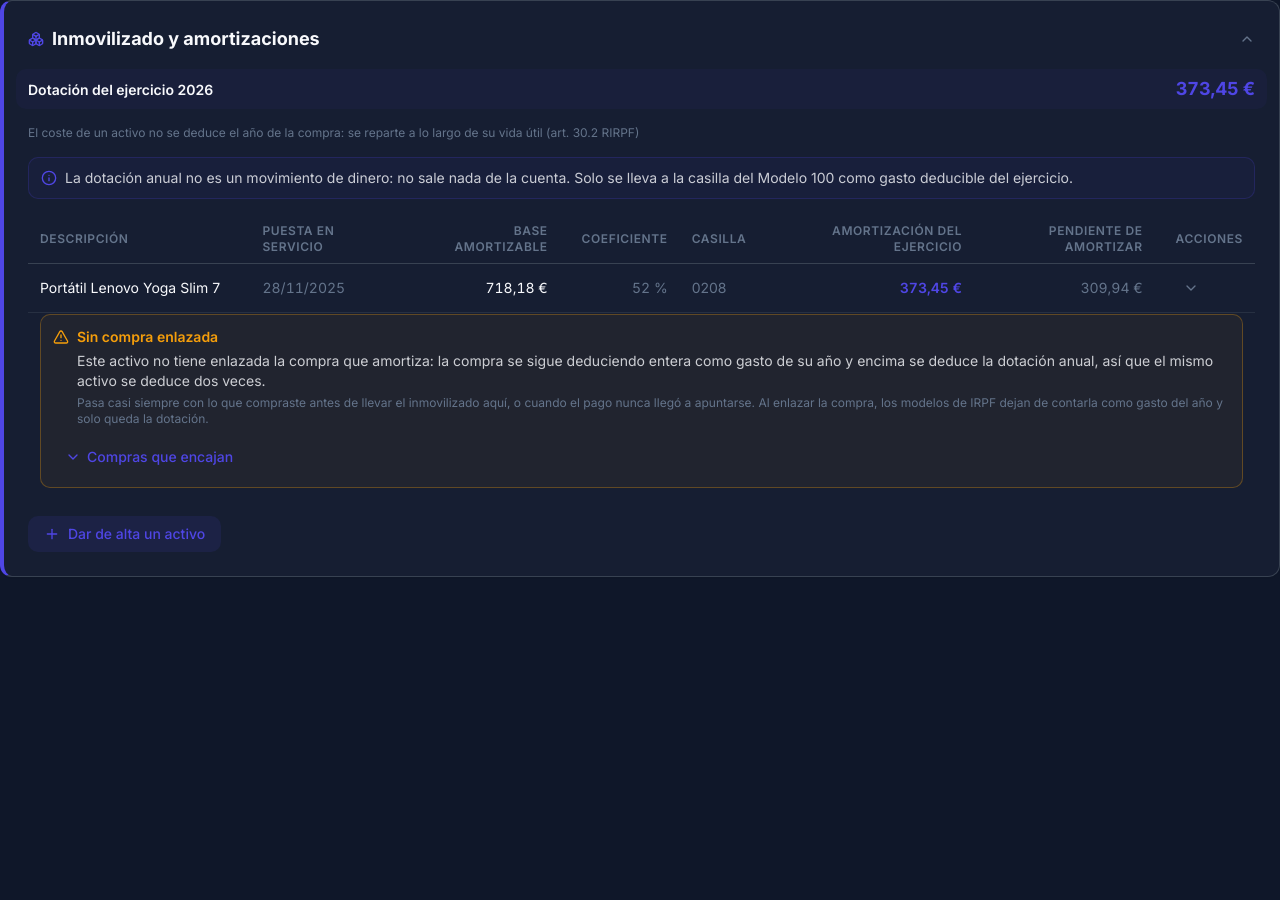
Test: FixedAssetsCard — unlinked purchase › when no movement fits › says the empty result is normal, not a failure
Click the button "Compras que encajan". click: [149, 457]
box: [53,439,245,475]
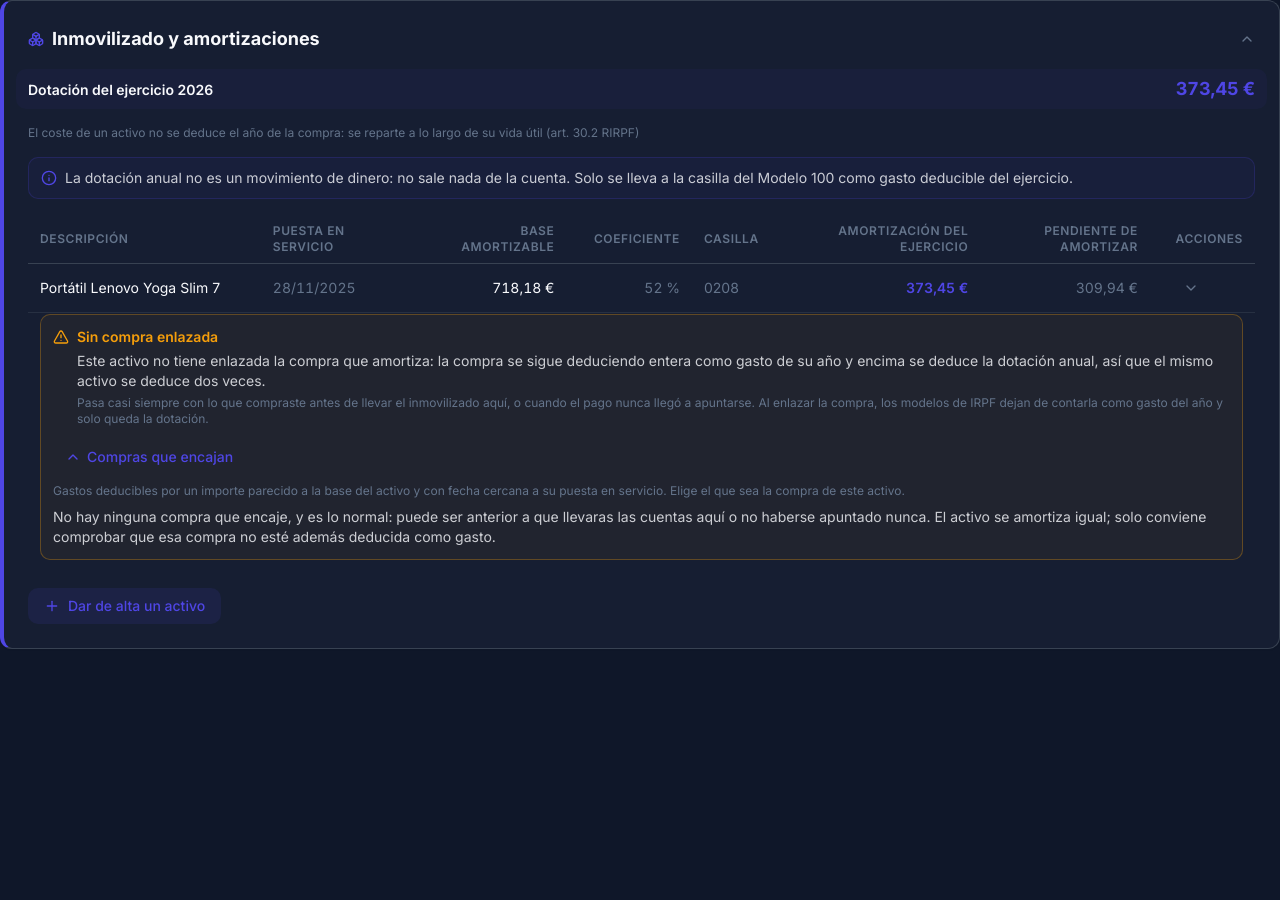
Now the text "No hay ninguna compra que encaje, y es lo normal: puede ser anterior a que llevaras las cuentas aquí o no haberse apunta" is shown, box [53,508,1206,545]
